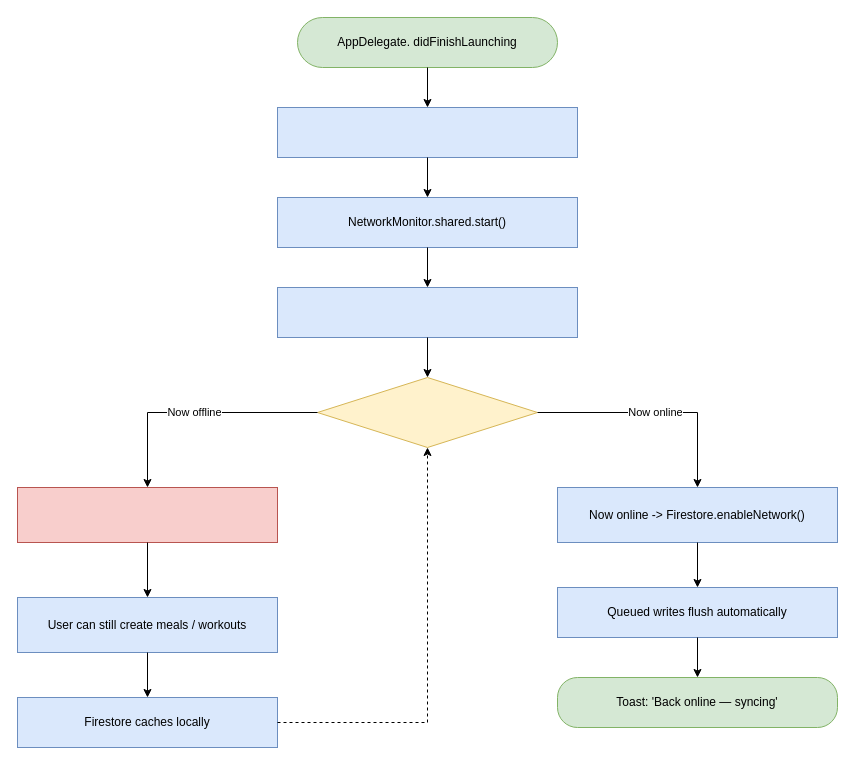
Image size: 855x765. Some labels were removed from this diagram. Here are the shapes that lost their labels. From the top down, the centre of each, then its label:
(427,132): PersistentCacheSettings unlimited
(427,312): NWPathMonitor watches all paths
(427,412): Connectivity change?
(147,514): Now offline -> show persistent banner
